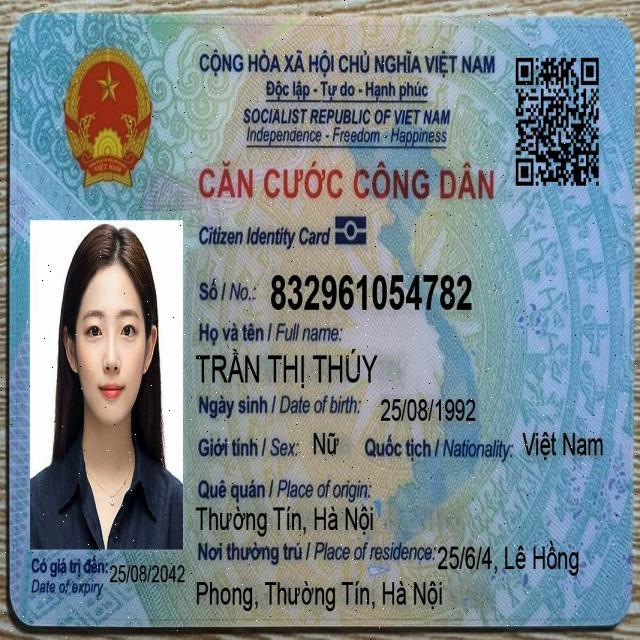current_place: (194, 576, 443, 614), (436, 538, 580, 578)
dob: (378, 396, 477, 425)
expire_date: (108, 563, 186, 587)
gender: (312, 428, 340, 458)
id: (269, 270, 474, 315)
name: (193, 345, 379, 391)
nationality: (521, 429, 604, 463)
origin_place: (193, 502, 374, 539)
qr: (512, 53, 605, 194)
